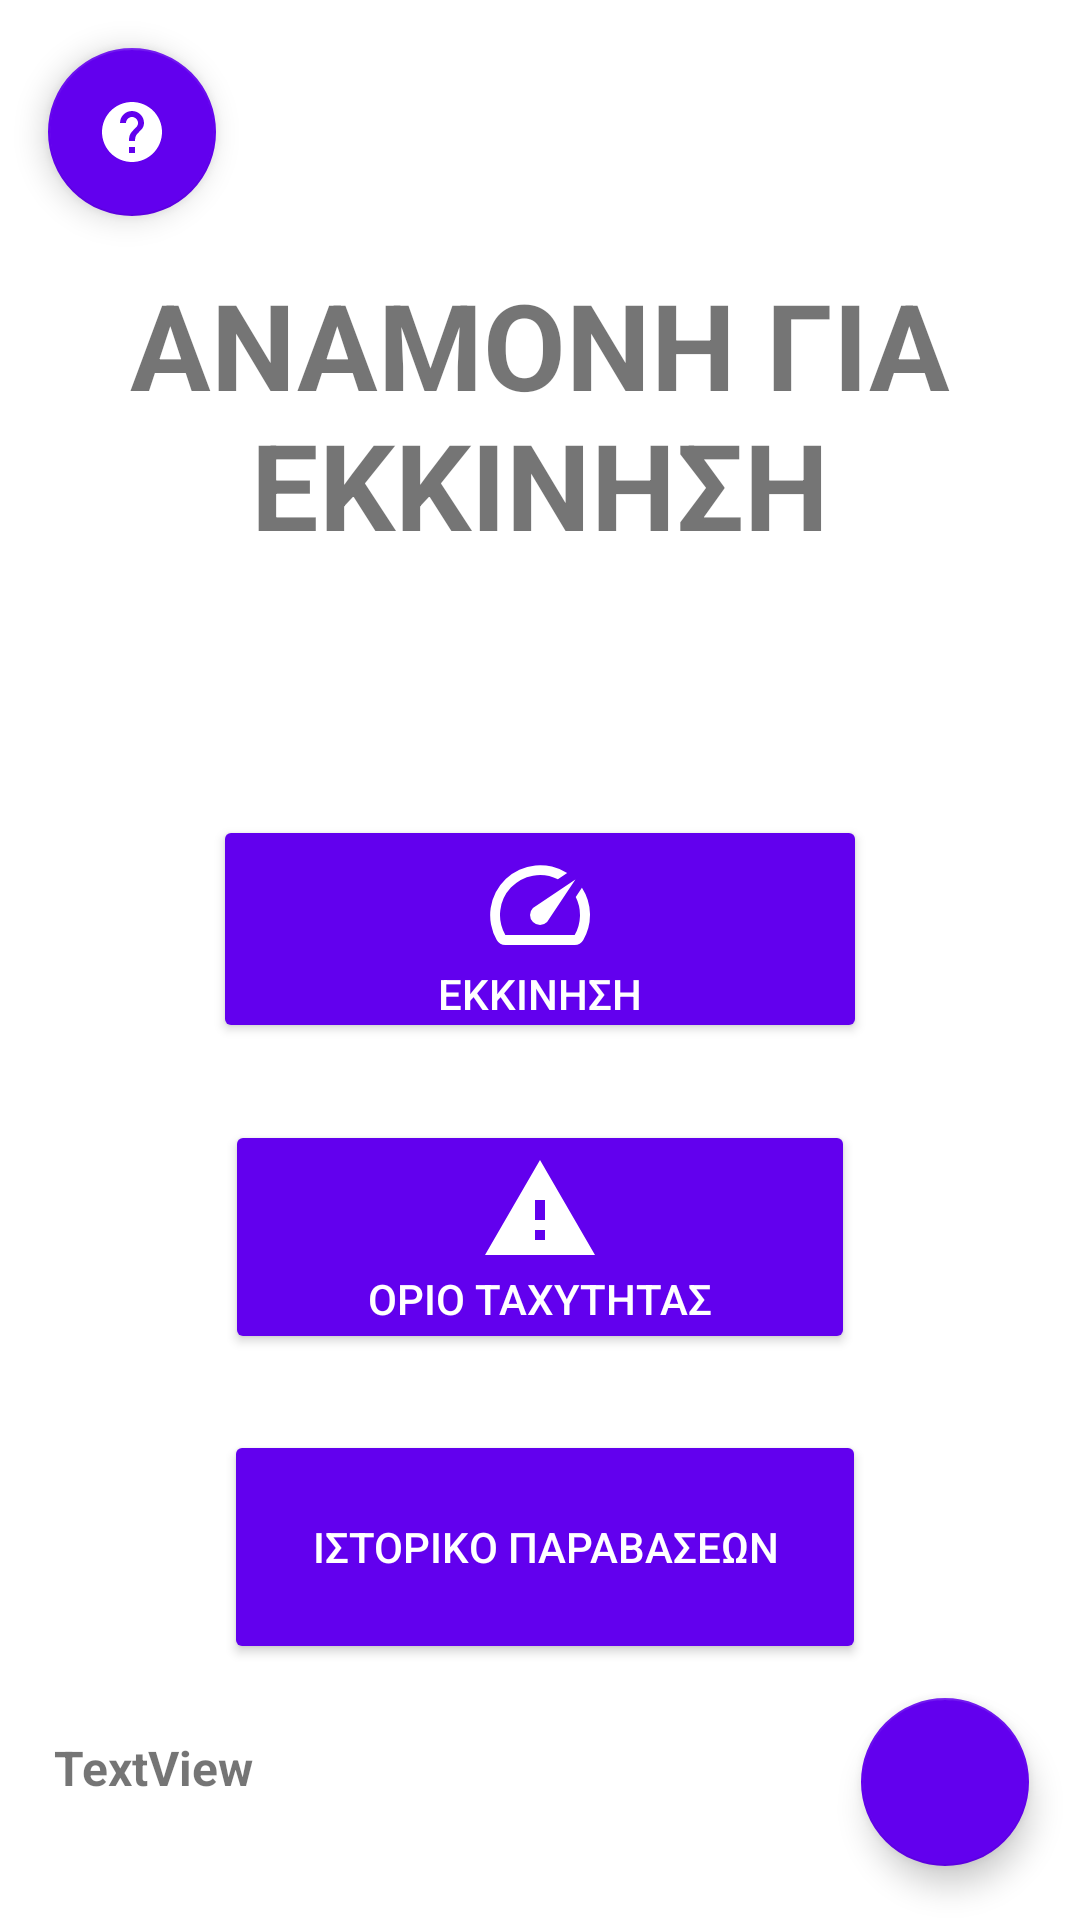

Icons on this 1080×1920 Android screen, each with its box as [x1,y1,x2,y2]:
help: [48,48,216,216]
